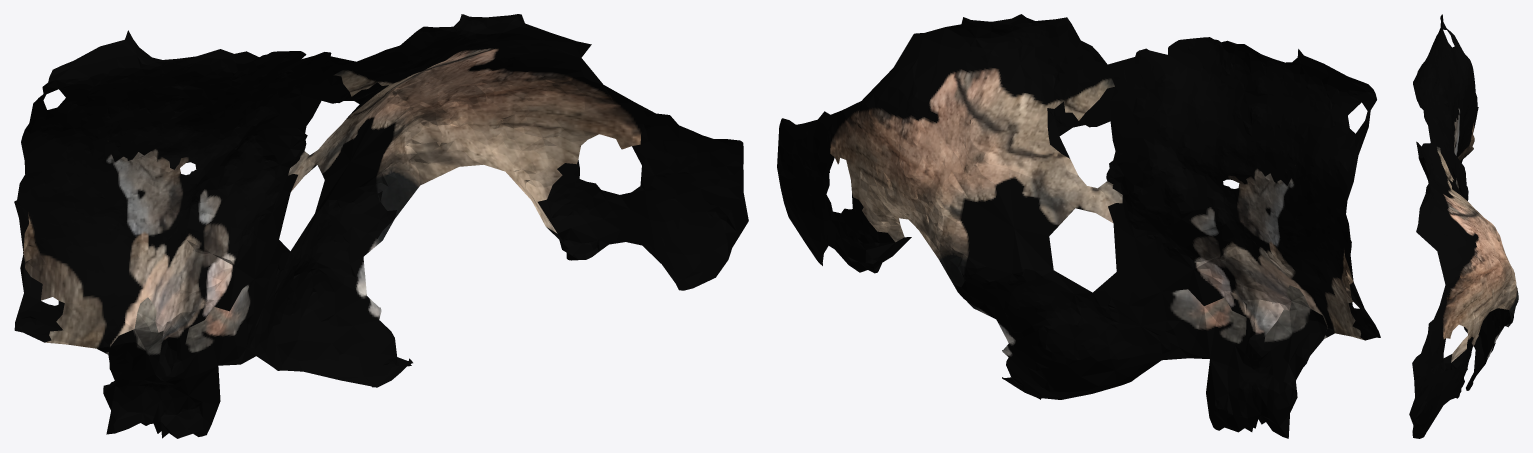
The model's file is texturedMesh.obj.
3 views of the same model, side by side, from view 1: azimuth 30°, elevation 25°; view 2: azimuth 150°, elevation 25°; view 3: azimuth 270°, elevation 25° (orthographic). The views are drawn at different scales.
Visible parts, largest first — view 1: TexturedMesh; view 2: TexturedMesh; view 3: TexturedMesh.
Boxes of the visible parts, x1,y1,x2,y2 form: TexturedMesh: (14,14,748,438); TexturedMesh: (777,14,1380,438); TexturedMesh: (1409,14,1518,438).
Size of the model in its own units: 2.27 by 1.35 by 0.4803.
1 material, 1 textured.
